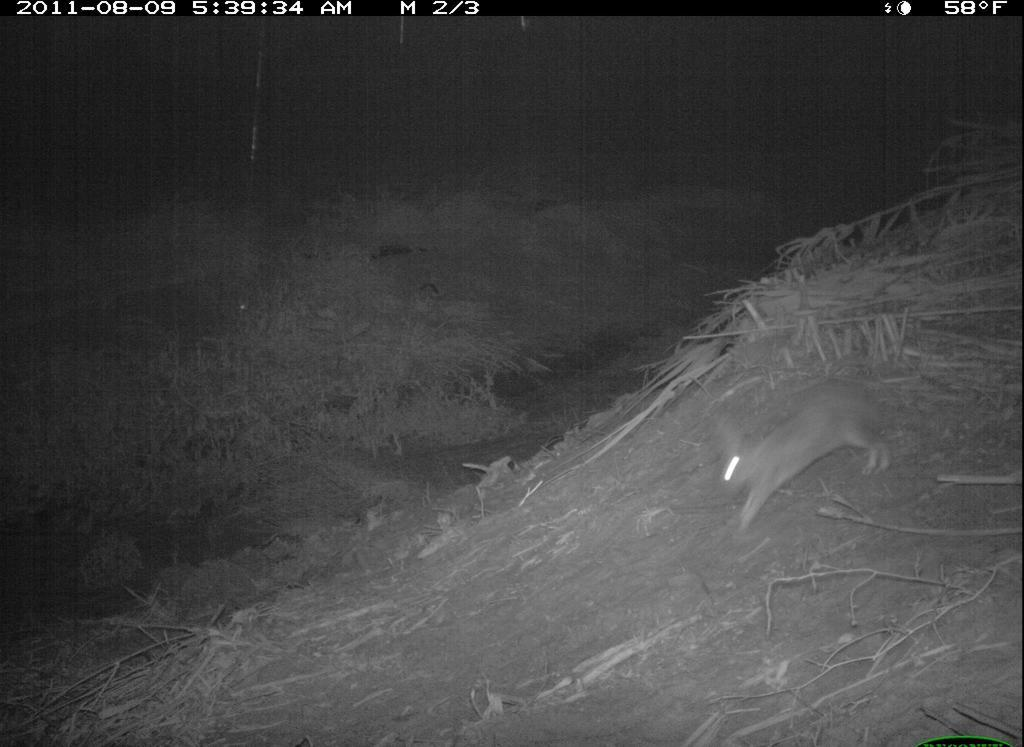rabbit: (678, 377, 914, 543)
